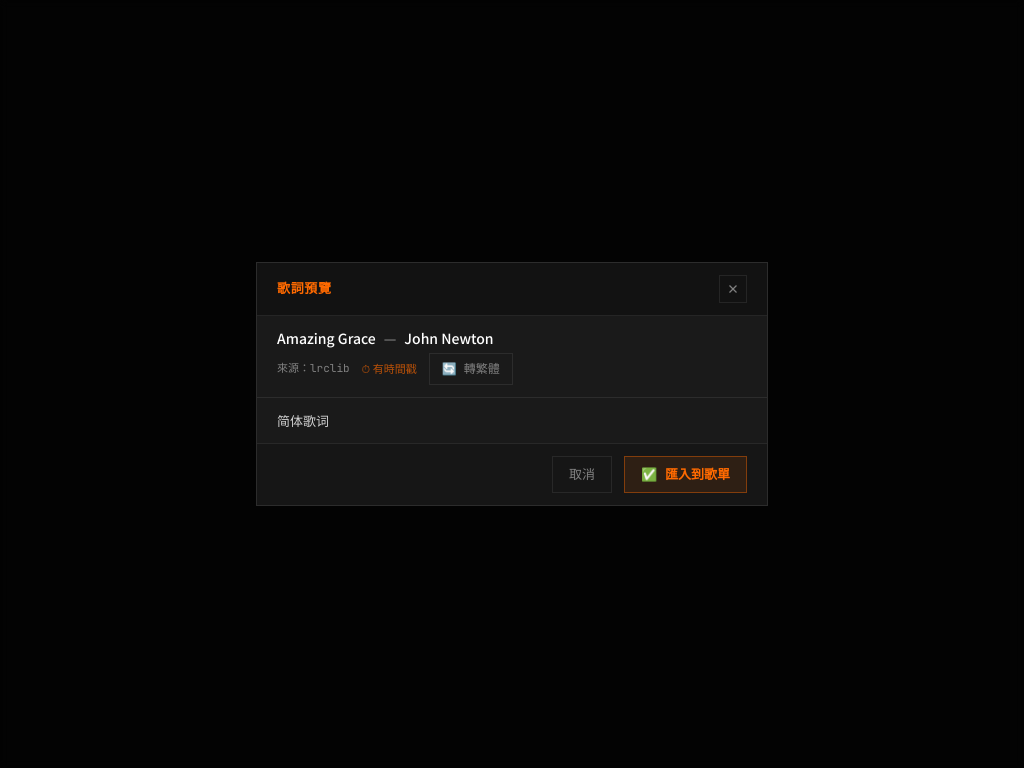
LyricsPreviewModal › converts lyrics to traditional when toggle is clicked
//  點擊轉繁體按鈕
Click the button "🔄 轉繁體" at x=471, y=369, box [429, 353, 513, 385]
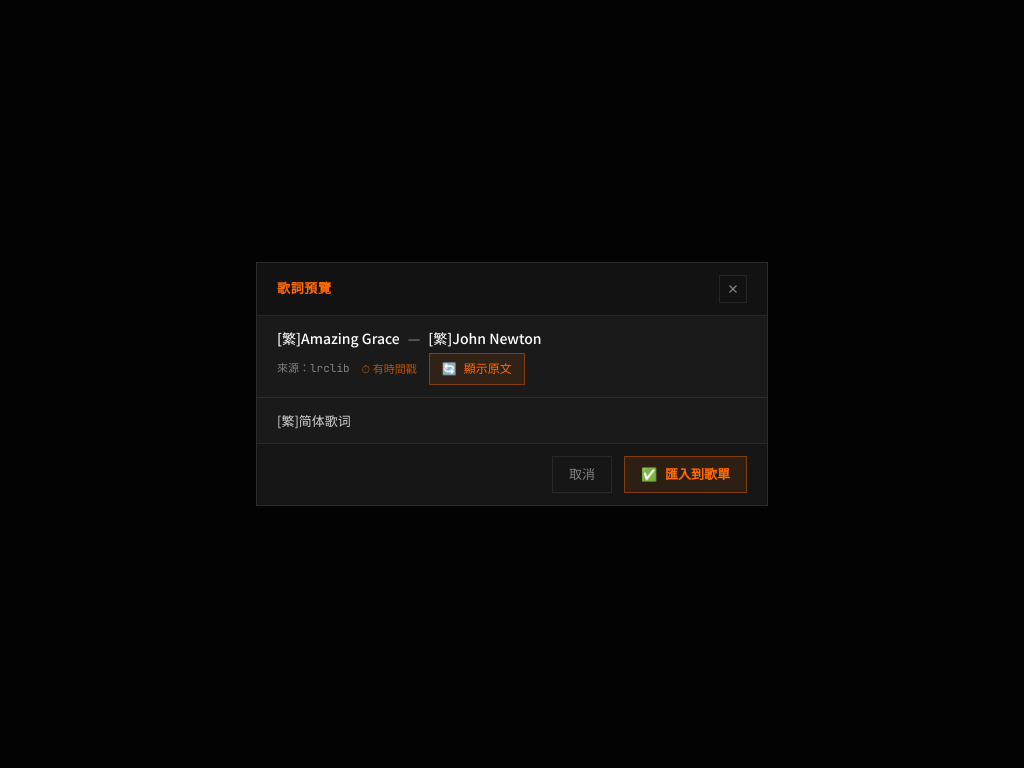
Now the text "[繁]简体歌词" is shown, box [277, 411, 351, 430]
